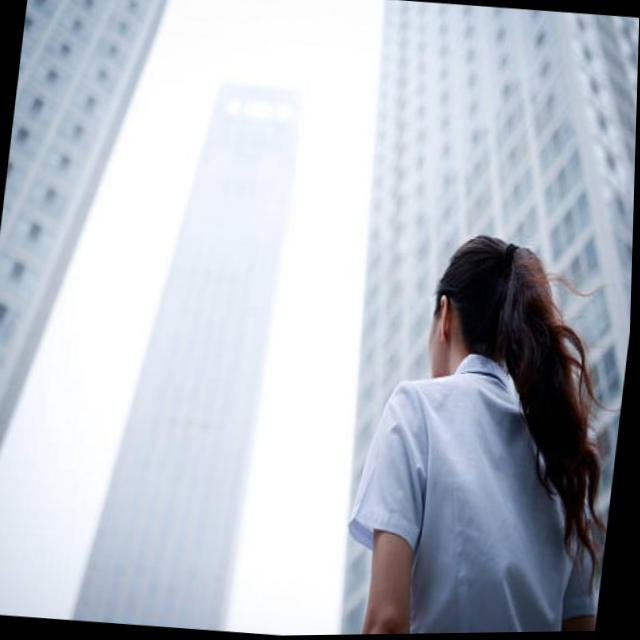no helmet: (384, 204, 623, 537)
